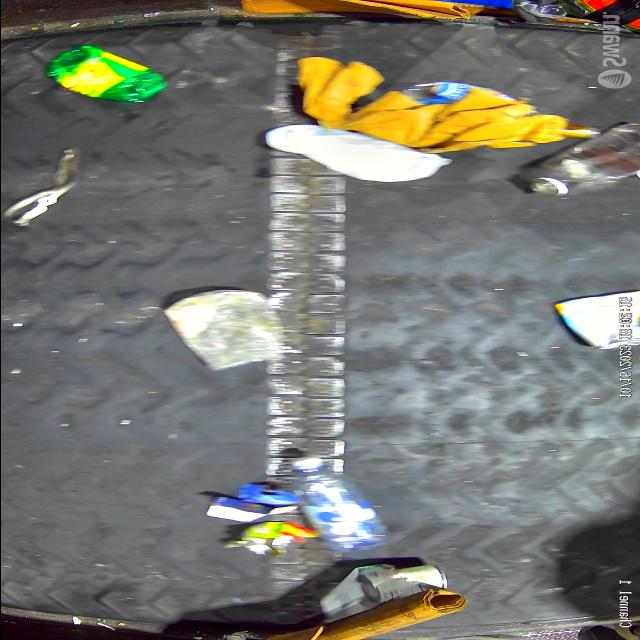can: (358, 564, 446, 604), (220, 521, 316, 557)
milk_jug: (263, 124, 451, 183)
non_white_jug: (553, 290, 640, 350)
plastic_bottle: (289, 456, 389, 552), (528, 122, 640, 197)
